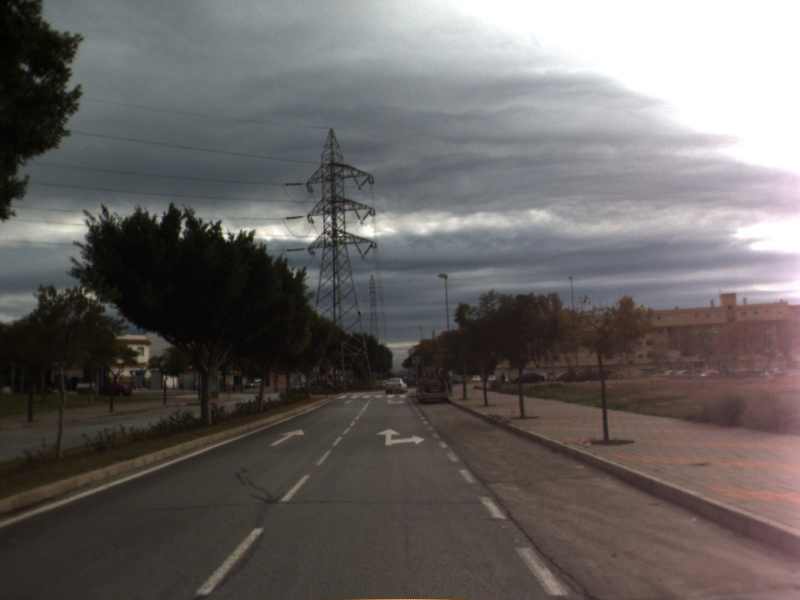STRAIGHT: (267, 427, 306, 448)
STRAIGHT_RIGHT: (374, 426, 427, 447)
